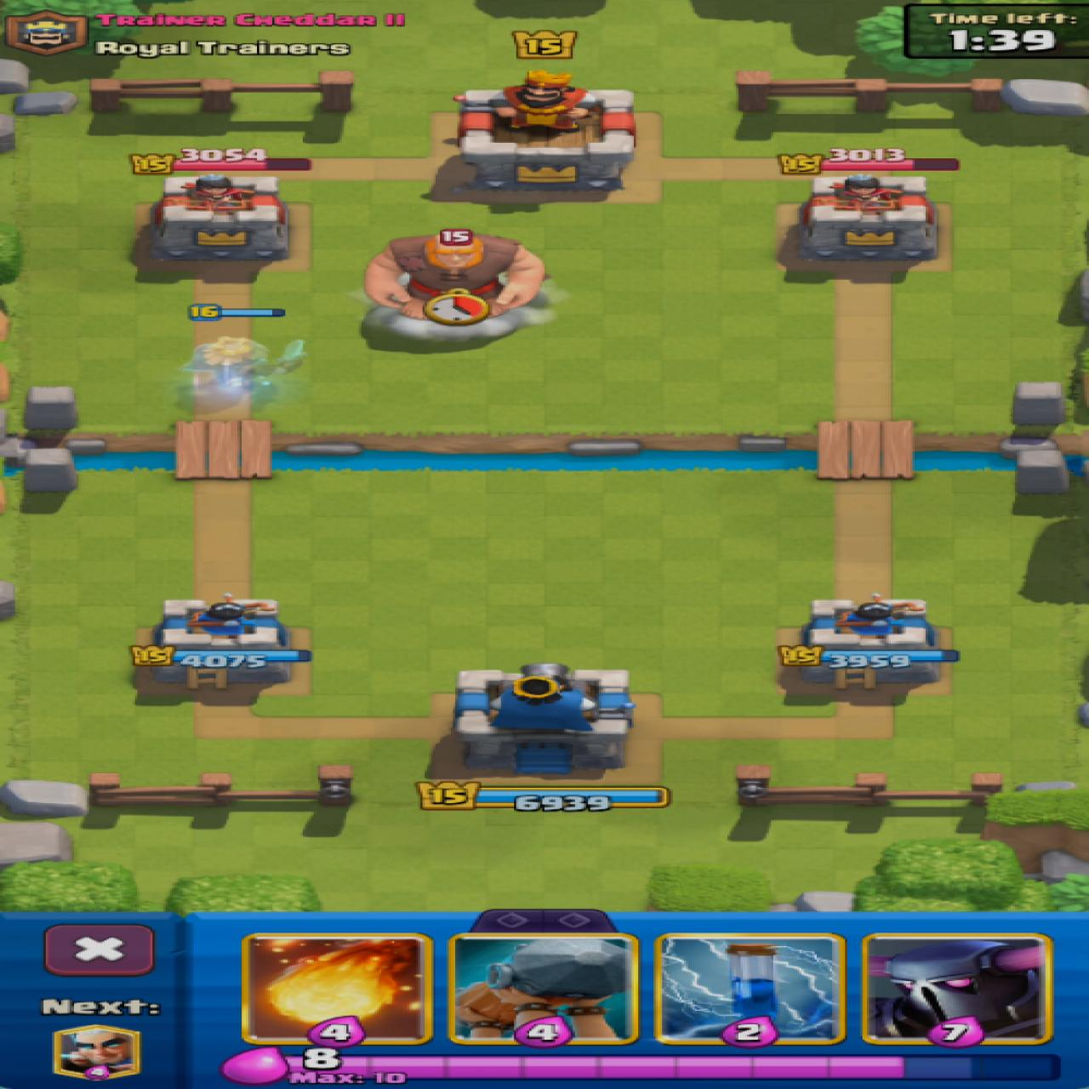Enemy-Giant: (366, 234, 544, 320)
Enemy-KingTower: (457, 72, 634, 192)
Enemy-PrincessTower: (150, 174, 285, 262), (799, 174, 934, 258)
